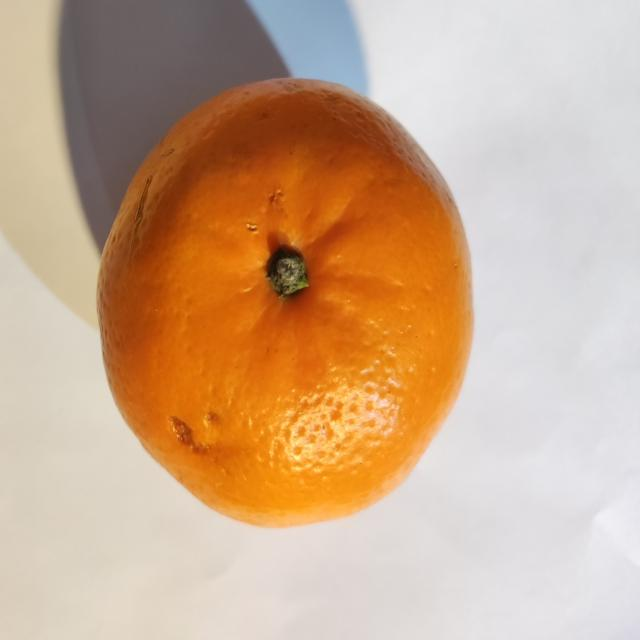orange: (99, 80, 472, 526)
